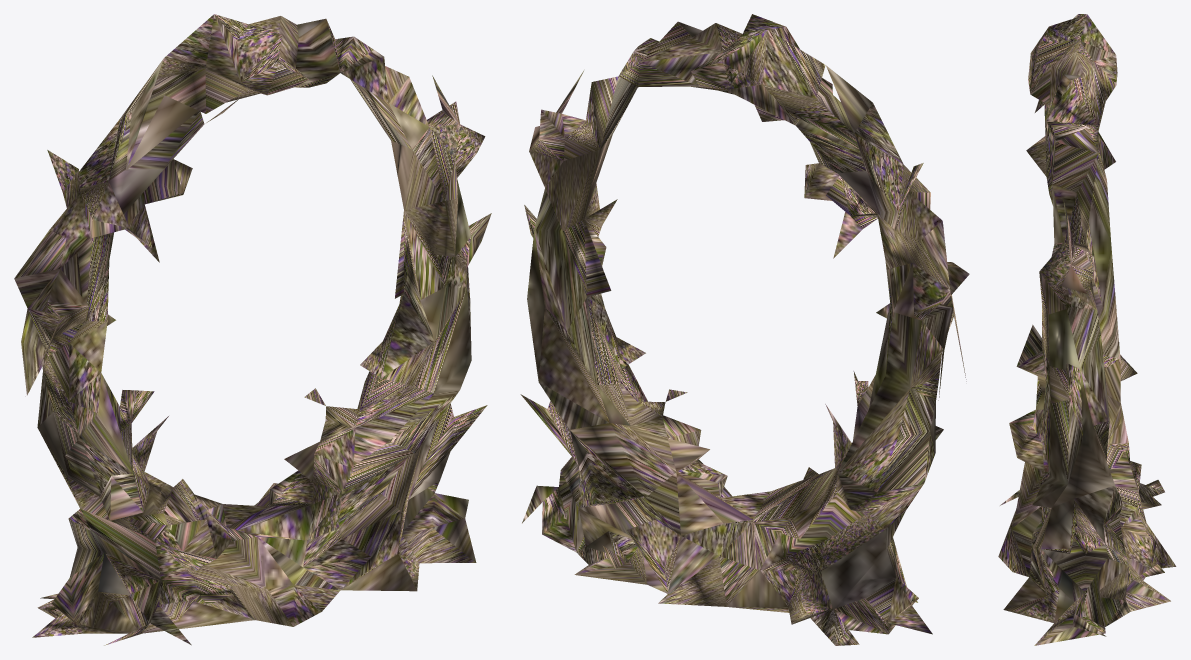
The model's file is Floral_Wreath_of_Spri.glb.
3 renders of one model, left to right at view 1: azimuth 30°, elevation 25°; view 2: azimuth 150°, elevation 25°; view 3: azimuth 270°, elevation 25°, orthographic. The views are drawn at different scales.
Parts seen in each view (by area): view 1: Floral_Wreath_of_Spri; view 2: Floral_Wreath_of_Spri; view 3: Floral_Wreath_of_Spri.
Boxes of the visible parts, box(x1,y1,x2,y2) form: Floral_Wreath_of_Spri: box(14, 14, 491, 645); Floral_Wreath_of_Spri: box(520, 14, 969, 645); Floral_Wreath_of_Spri: box(998, 14, 1176, 645).
Size of the model in its own units: 1.45 by 1.74 by 0.5321.
1 material, 1 textured.
